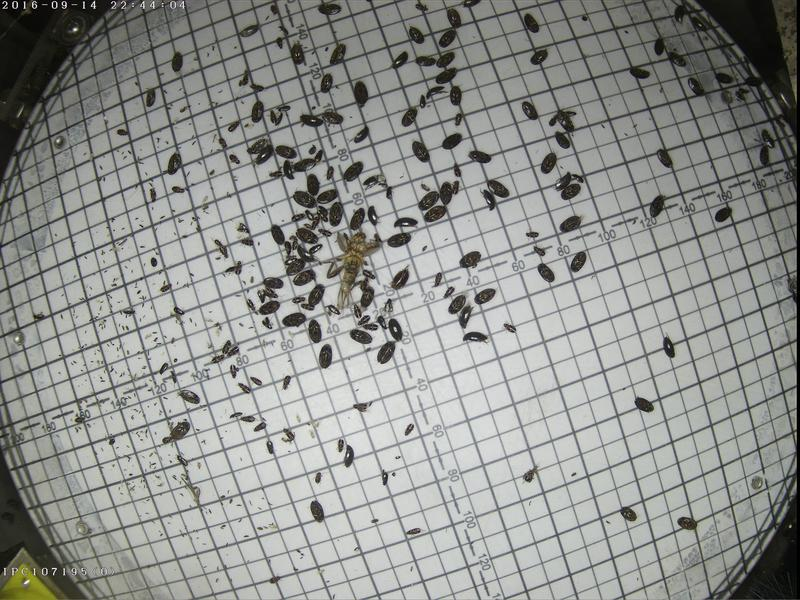Gryllotalpa orientalis: (328, 226, 376, 300)
